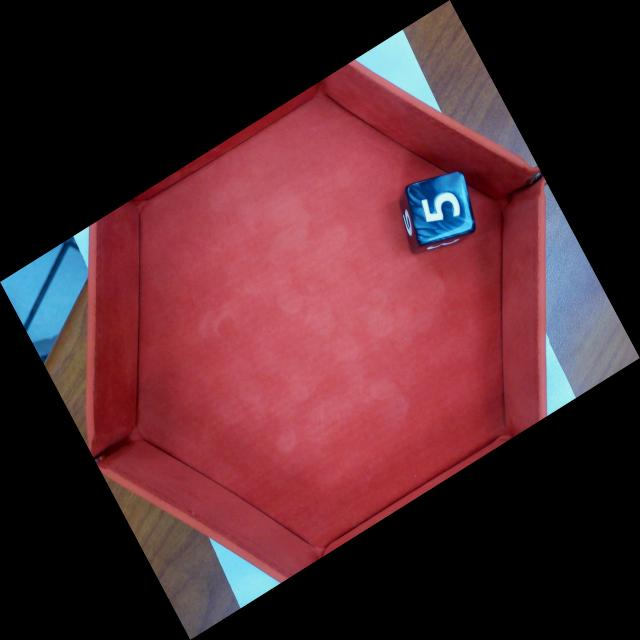dice: (411, 173, 475, 243)
